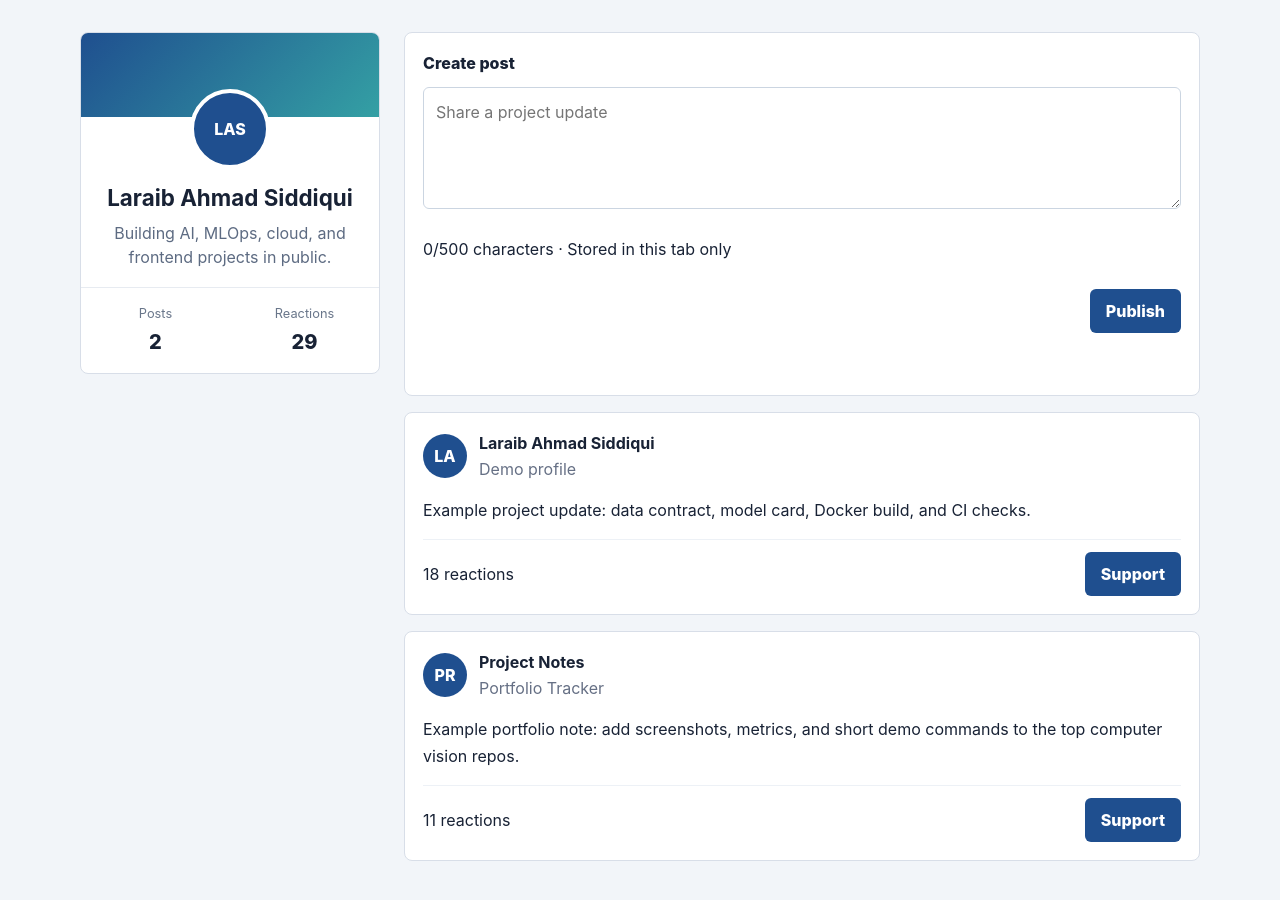
Test case: local feed › toggles one local reaction without unlimited count inflation
Step 1. Click the button "Support" in the row of "18" → x=1133, y=574, box [1085, 552, 1181, 596]
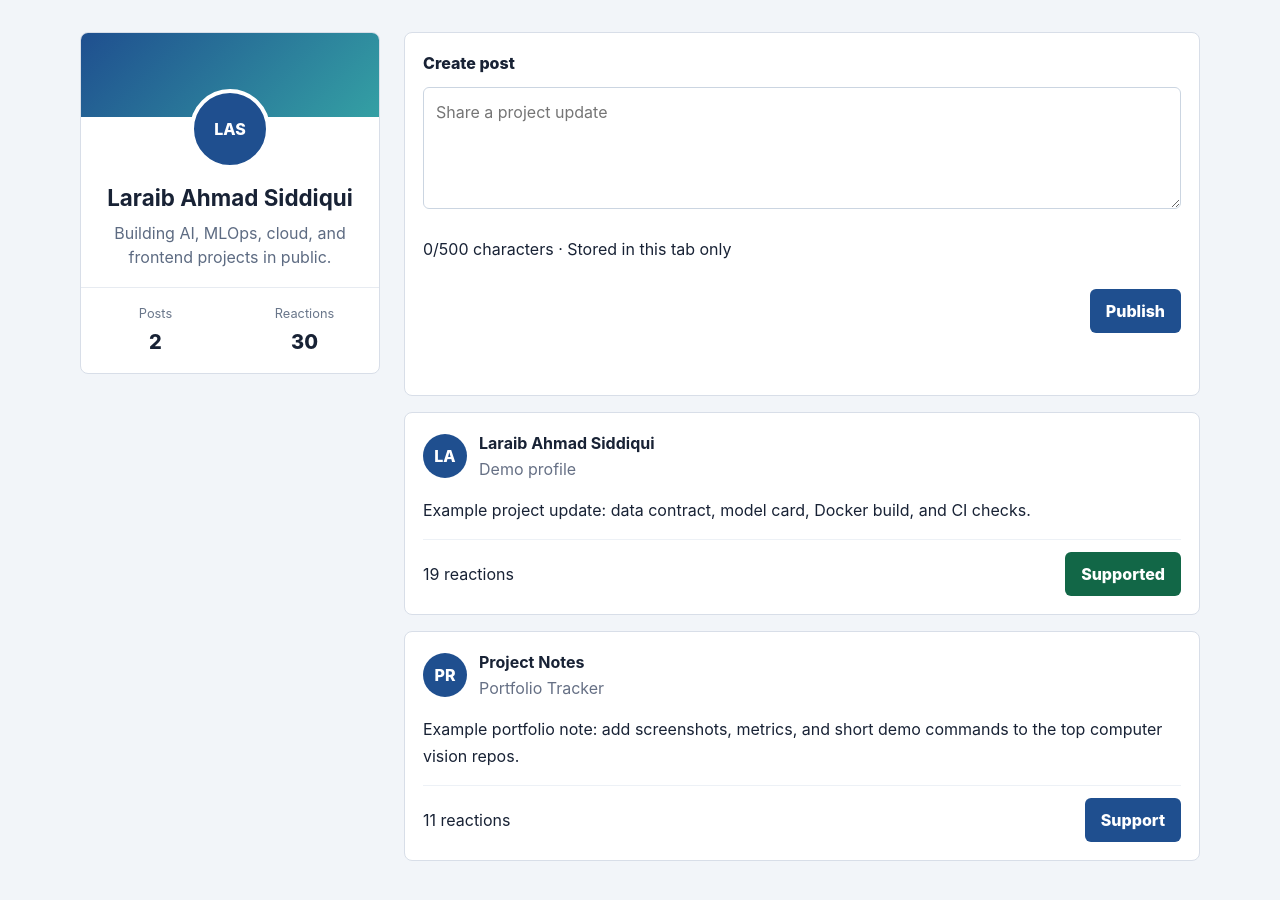
Result: the text "19 reactions" is shown at [423, 562, 514, 586]
Step 2. Click the button "Supported" → x=1123, y=574, box [1065, 552, 1181, 596]
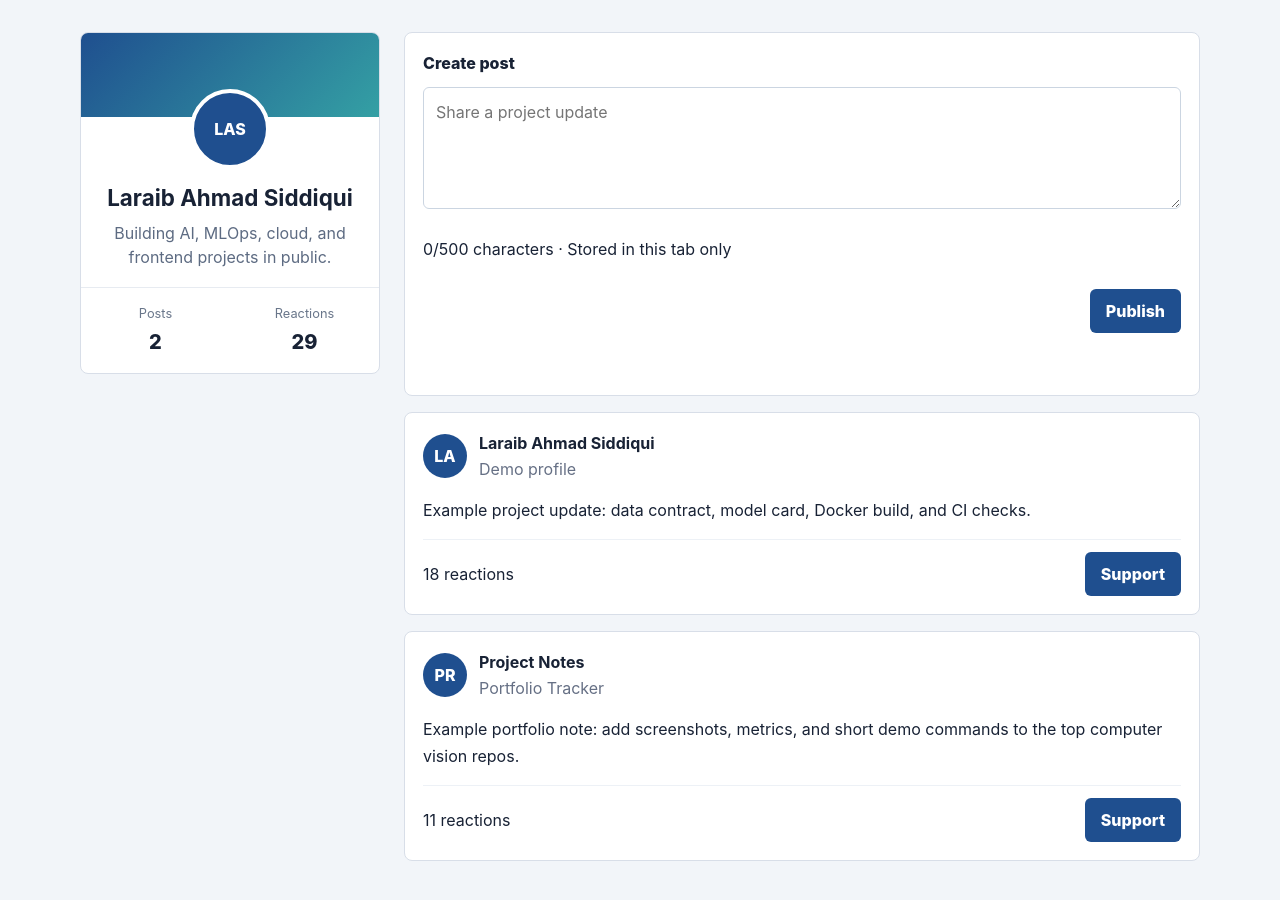
Result: the text "18 reactions" is shown at [423, 562, 514, 586]
